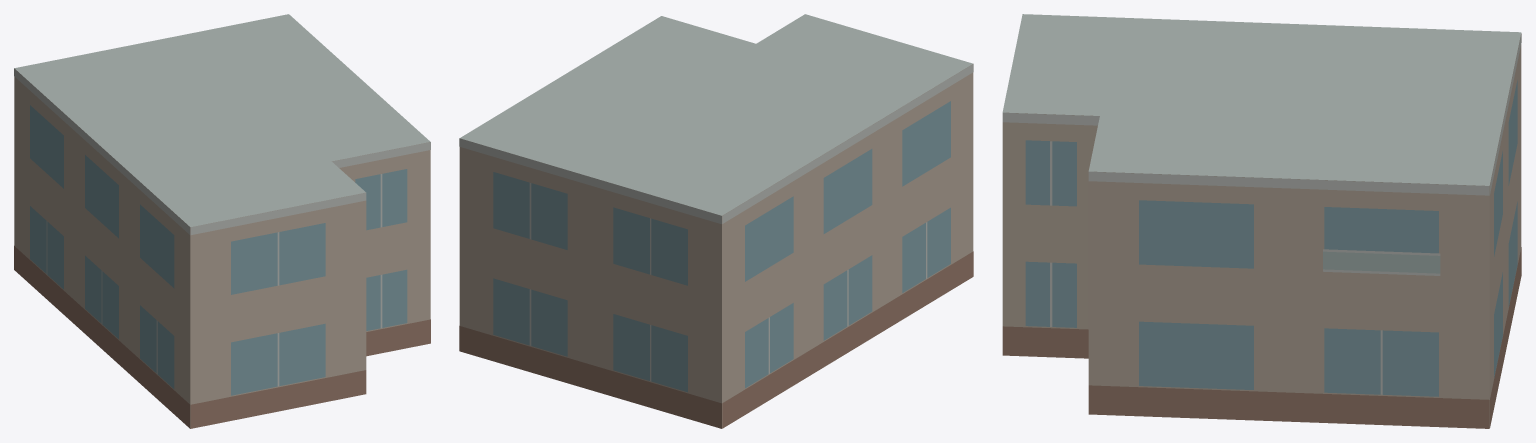
File: survey-upis-33010061.glb
3 renders of one model, left to right at view 1: azimuth 30°, elevation 25°; view 2: azimuth 150°, elevation 25°; view 3: azimuth 270°, elevation 25°, orthographic. The views are drawn at different scales.
Visible parts, largest first — view 1: survey-upis-33010061.tmp; view 2: survey-upis-33010061.tmp; view 3: survey-upis-33010061.tmp.
Part boxes in pixels (x1,y1,x2,y2): survey-upis-33010061.tmp: (14,14,430,428); survey-upis-33010061.tmp: (459,14,973,428); survey-upis-33010061.tmp: (1002,14,1521,428).
Size of the model in its own units: 9.27 by 6.1 by 11.82.
